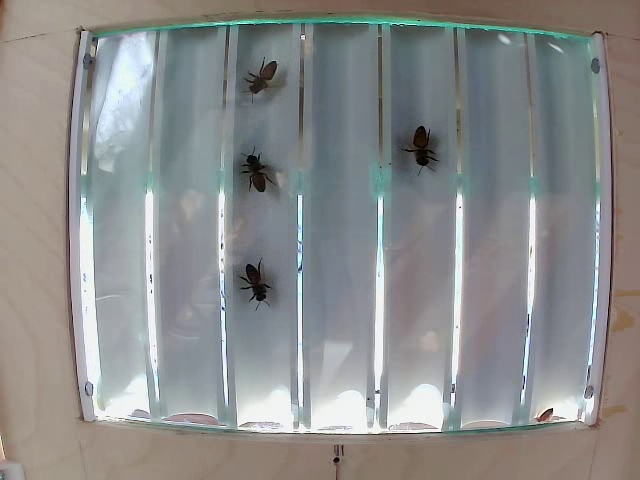bee: (235, 255, 276, 305), (402, 121, 439, 176), (249, 55, 288, 105), (232, 155, 269, 199)
